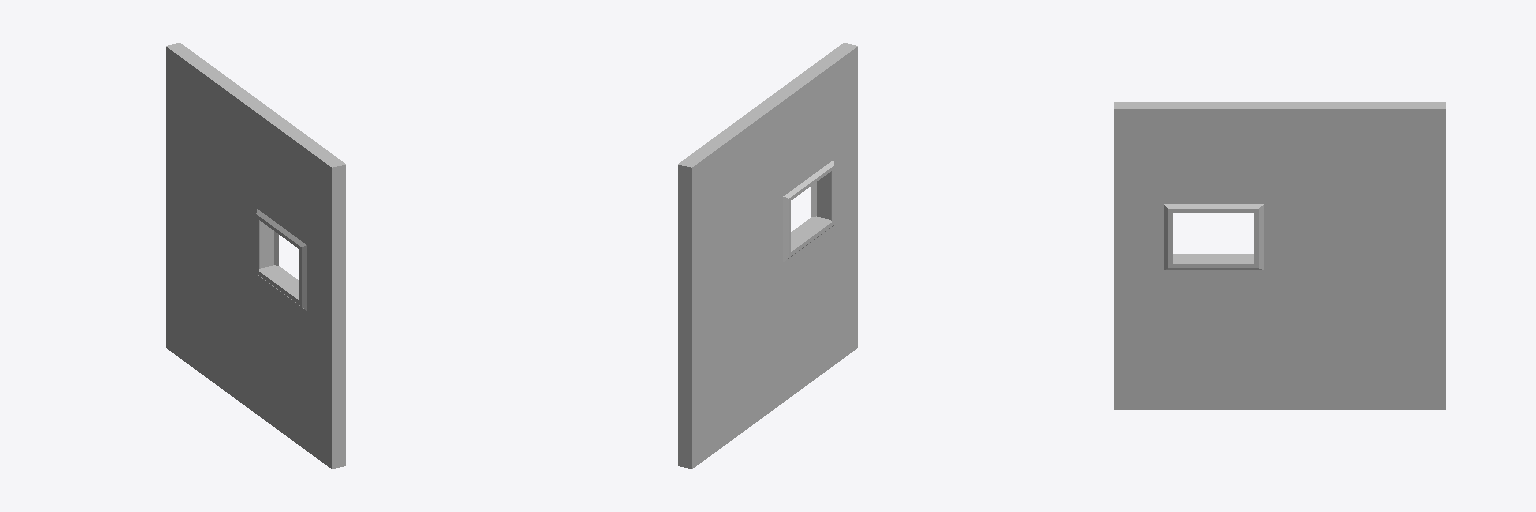
The model's file is mod_wall.obj.
3 renders of one model, left to right at view 1: azimuth 30°, elevation 25°; view 2: azimuth 150°, elevation 25°; view 3: azimuth 270°, elevation 25°, orthographic.
Parts seen in each view (by area): view 1: pCube1; view 2: pCube1; view 3: pCube1.
Part boxes in pixels (left/top/right/bottom): pCube1: left=166, top=43, right=345, bottom=468; pCube1: left=678, top=43, right=857, bottom=468; pCube1: left=1114, top=102, right=1445, bottom=409.
Bounding box in the file's own units: 1.42 × 20 × 20.